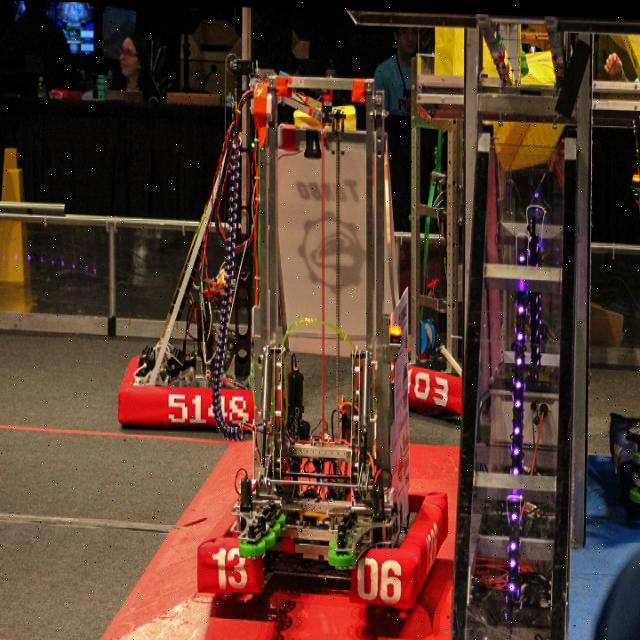robot: (197, 69, 451, 618), (119, 49, 293, 433), (373, 41, 512, 415), (604, 390, 640, 508)
